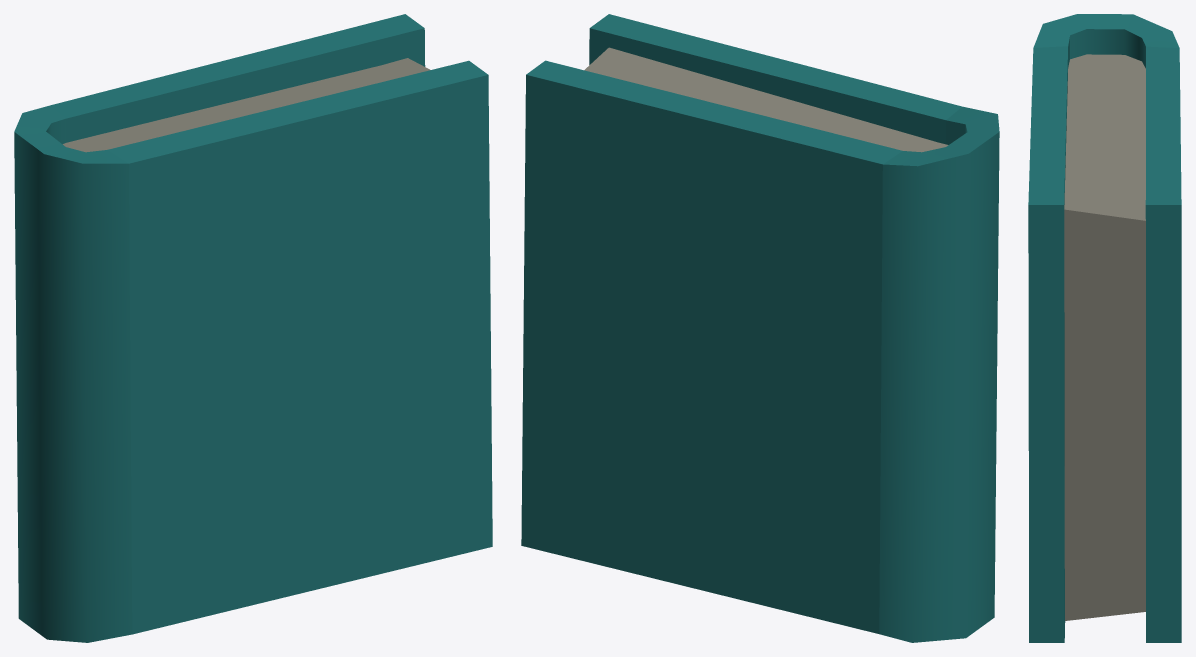
Rendered from book_v2.fbx.
3 renders of one model, left to right at view 1: azimuth 30°, elevation 25°; view 2: azimuth 150°, elevation 25°; view 3: azimuth 270°, elevation 25°, orthographic. The views are drawn at different scales.
Visible parts, largest first — view 1: book_v2; view 2: book_v2; view 3: book_v2.
Part boxes in pixels (bbox=[...]): book_v2: bbox=[14, 14, 492, 642]; book_v2: bbox=[521, 14, 999, 642]; book_v2: bbox=[1028, 14, 1181, 642].
Bounding box in the file's own units: 43.69 × 48.14 × 14.89.
